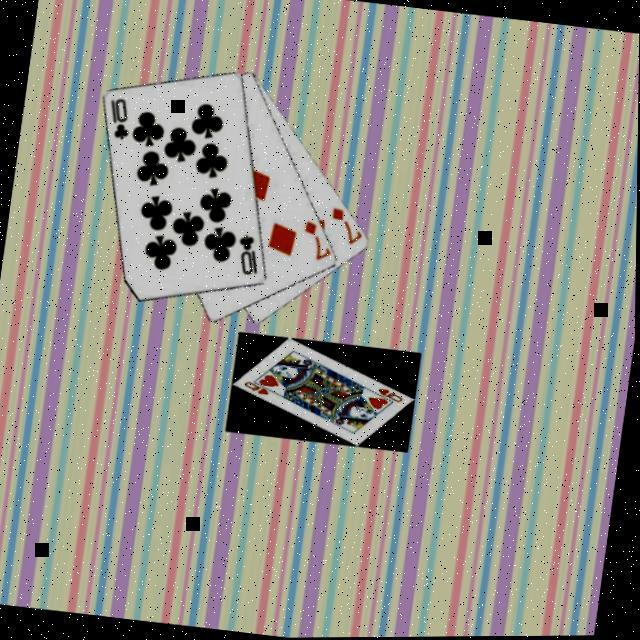10C: (103, 95, 138, 145), (233, 231, 267, 280)
7D: (326, 204, 370, 250), (298, 218, 338, 266)
